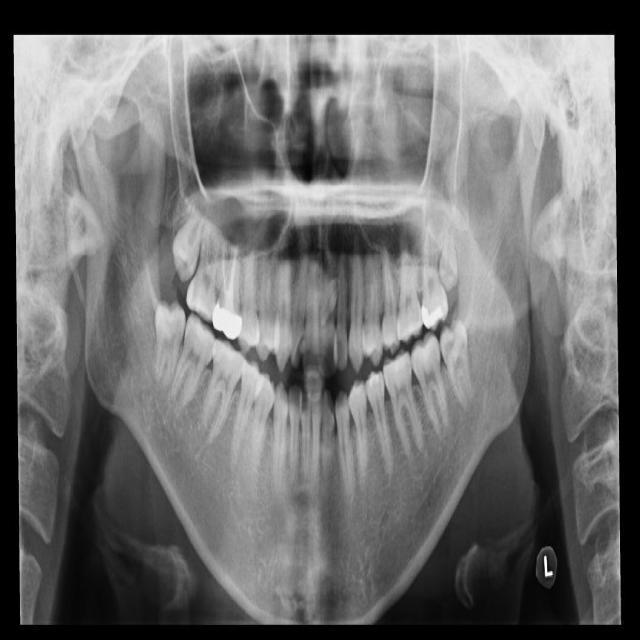3M ESPE Implant: (167, 192, 208, 285)
52: (207, 295, 249, 342), (418, 285, 453, 334)
73: (218, 238, 241, 302), (548, 594, 553, 598)
BioHorizons Implant: (416, 220, 450, 332)
BioLife Implant: (432, 219, 462, 293)
Biomet 3i Implant: (435, 313, 480, 411)
Blue Sky Bio Implant: (407, 329, 451, 437)
Caries: (185, 212, 221, 323)
Implant: (166, 311, 224, 418)
Keystone Dental Implant: (152, 299, 187, 388)
